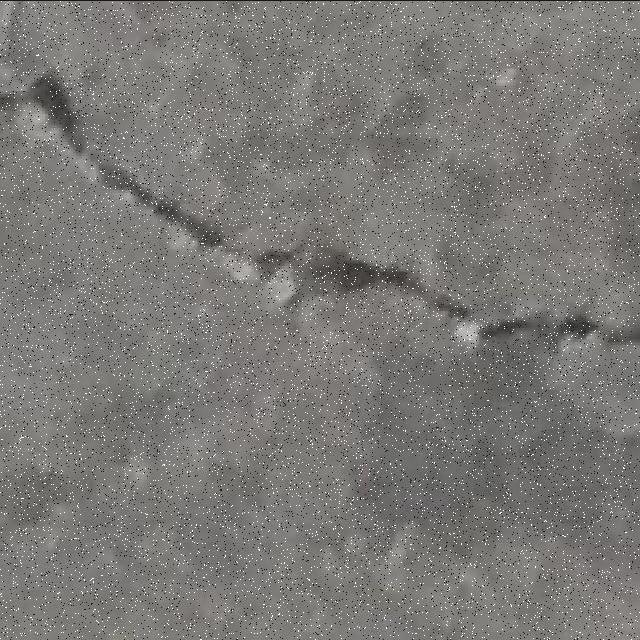Crack: (7, 69, 635, 355)
